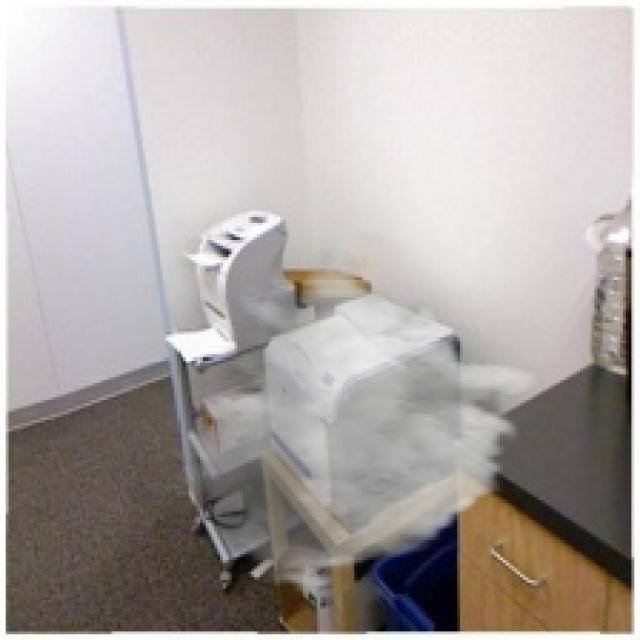smoke: (165, 249, 546, 594)
